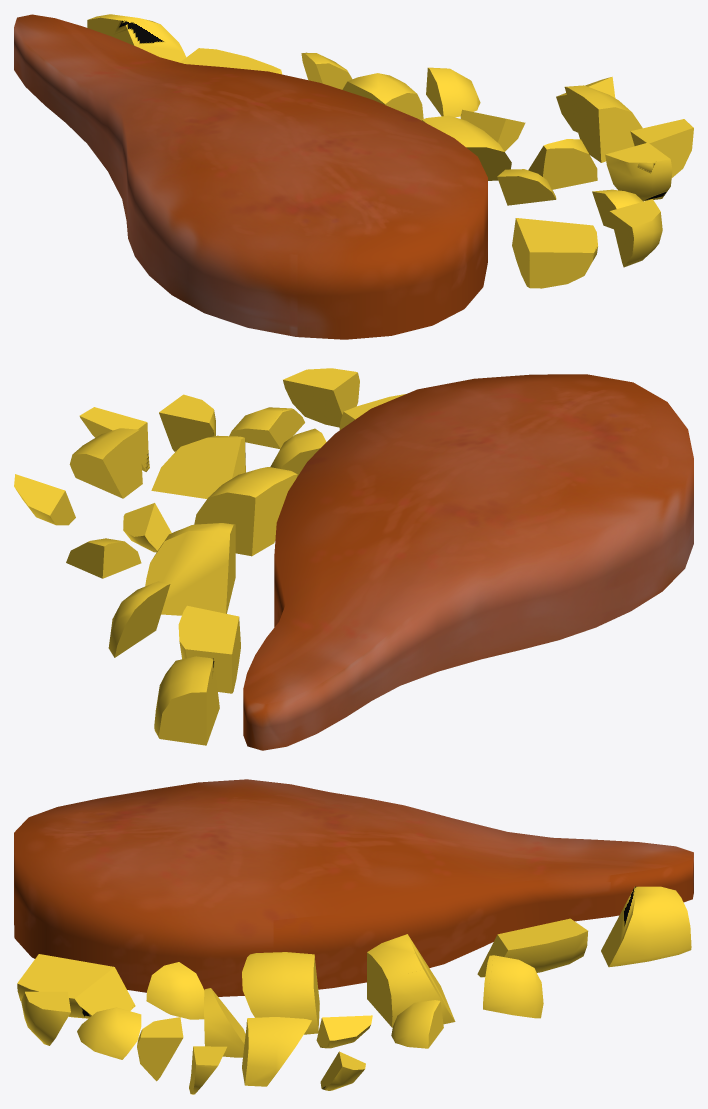
Rendered from steak_potato.fbx.
3 renders of one model, top to bottom at view 1: azimuth 30°, elevation 25°; view 2: azimuth 150°, elevation 25°; view 3: azimuth 270°, elevation 25°, orthographic. The views are drawn at different scales.
Visible parts, largest first — view 1: Steak_3, Potato_4; view 2: Steak_3, Potato_4; view 3: Steak_3, Potato_4.
Part boxes in pixels (x1,y1,x2,y2): Steak_3: (14, 14, 487, 339); Potato_4: (87, 14, 693, 288); Steak_3: (243, 374, 693, 750); Potato_4: (14, 368, 405, 745); Steak_3: (14, 779, 693, 996); Potato_4: (17, 886, 691, 1094).
Size of the model in its own units: 78.83 by 16.28 by 93.16.
